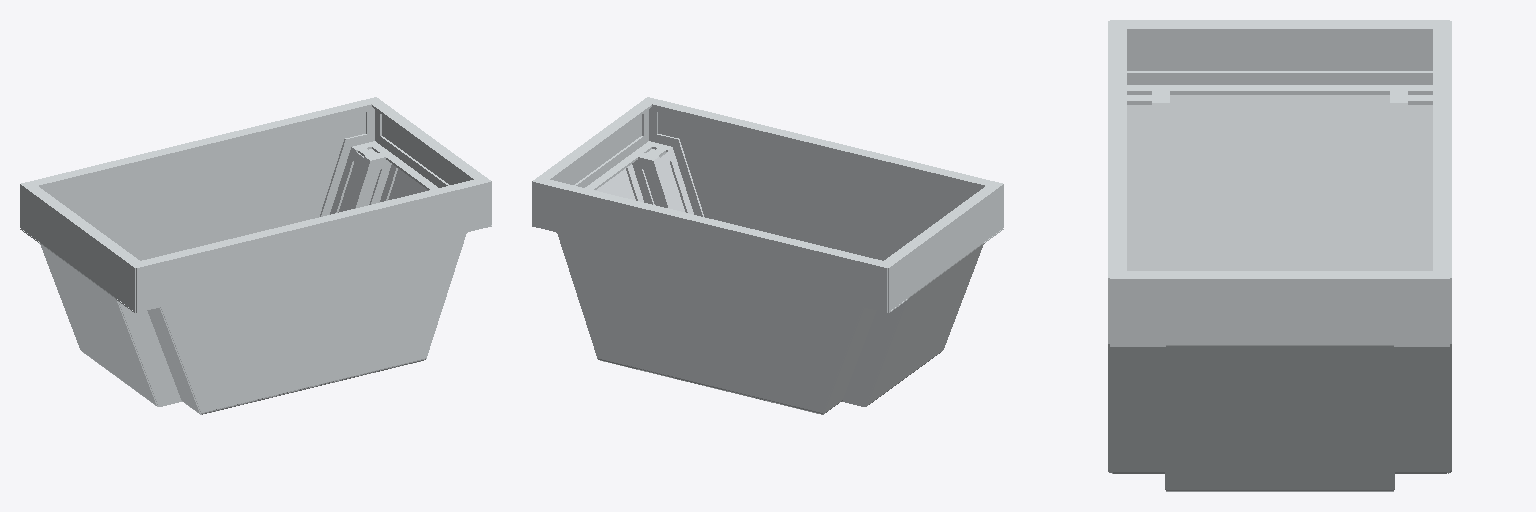
URDF robot description (capra_simulation):
<robot
  name="capra_simulation">
  <link
    name="base_link">
    <inertial>
      <origin
        xyz="8.6664E-17 0.032648 -2.0607E-16"
        rpy="0 0 0" />
      <mass
        value="3.603" />
      <inertia
        ixx="0.032455"
        ixy="8.4839E-18"
        ixz="2.8189E-18"
        iyy="0.08254"
        iyz="-9.0802E-18"
        izz="0.073343" />
    </inertial>
    <visual>
      <origin
        xyz="0 0 0"
        rpy="0 0 0" />
      <geometry>
        <mesh
          filename="package://capra_simulation/meshes/base_link.STL" />
      </geometry>
      <material
        name="">
        <color
          rgba="0.89804 0.91765 0.92941 1" />
      </material>
    </visual>
    <collision>
      <origin
        xyz="0 0 0"
        rpy="0 0 0" />
      <geometry>
        <mesh
          filename="package://capra_simulation/meshes/base_link.STL" />
      </geometry>
    </collision>
  </link>
</robot>

--- Render facts (derived) ---
3 views of the same robot in one strip: view 1: azimuth 30°, elevation 25°; view 2: azimuth 150°, elevation 25°; view 3: azimuth 270°, elevation 25° (orthographic).
Robot: capra_simulation — 1 links, 0 joints (none); root link base_link; default pose: all joints at 0.
Visible links, largest first — view 1: base_link; view 2: base_link; view 3: base_link.
Boxes of the visible links, box(x1,y1,x2,y2) form: base_link: box(20, 97, 491, 414); base_link: box(532, 97, 1003, 414); base_link: box(1108, 20, 1451, 491).
Bounding box of the posed robot: 0.5476 × 0.3078 × 0.2404 m (x, y, z).
1 mesh visuals loaded from 1 distinct referenced files (1 binary STL).